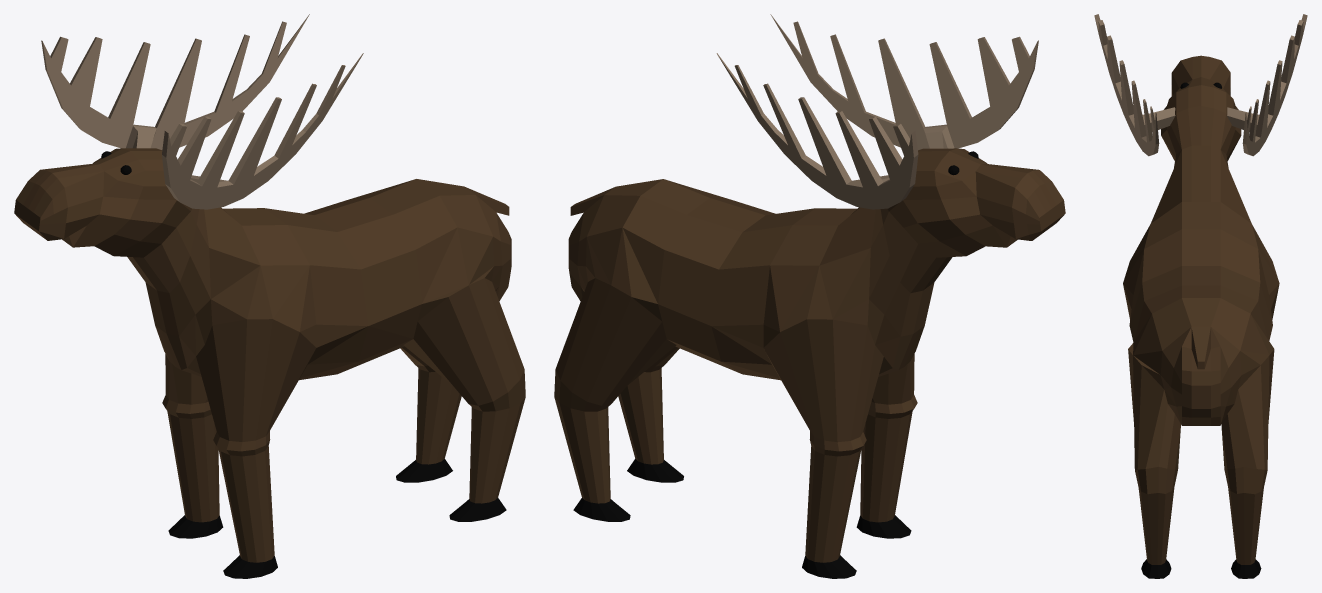
The model's file is brumal_moose_alt__low-poly-moose.glb.
3 renders of one model, left to right at view 1: azimuth 30°, elevation 25°; view 2: azimuth 150°, elevation 25°; view 3: azimuth 270°, elevation 25°, orthographic. The views are drawn at different scales.
Visible parts, largest first — view 1: Plane, Plane.001, Plane.002; view 2: Plane, Plane.002, Plane.001; view 3: Plane, Plane.002, Plane.001.
Boxes of the visible parts, <box> form: Plane: <box>14,148,525,578</box>; Plane.001: <box>41,14,309,149</box>; Plane.002: <box>162,53,363,209</box>; Plane: <box>554,148,1065,578</box>; Plane.002: <box>770,14,1038,150</box>; Plane.001: <box>716,53,918,209</box>; Plane: <box>1123,55,1279,578</box>; Plane.002: <box>1094,14,1175,156</box>; Plane.001: <box>1227,14,1307,156</box>.
Bounding box in the file's own units: 4.38 × 4.3 × 2.01.
